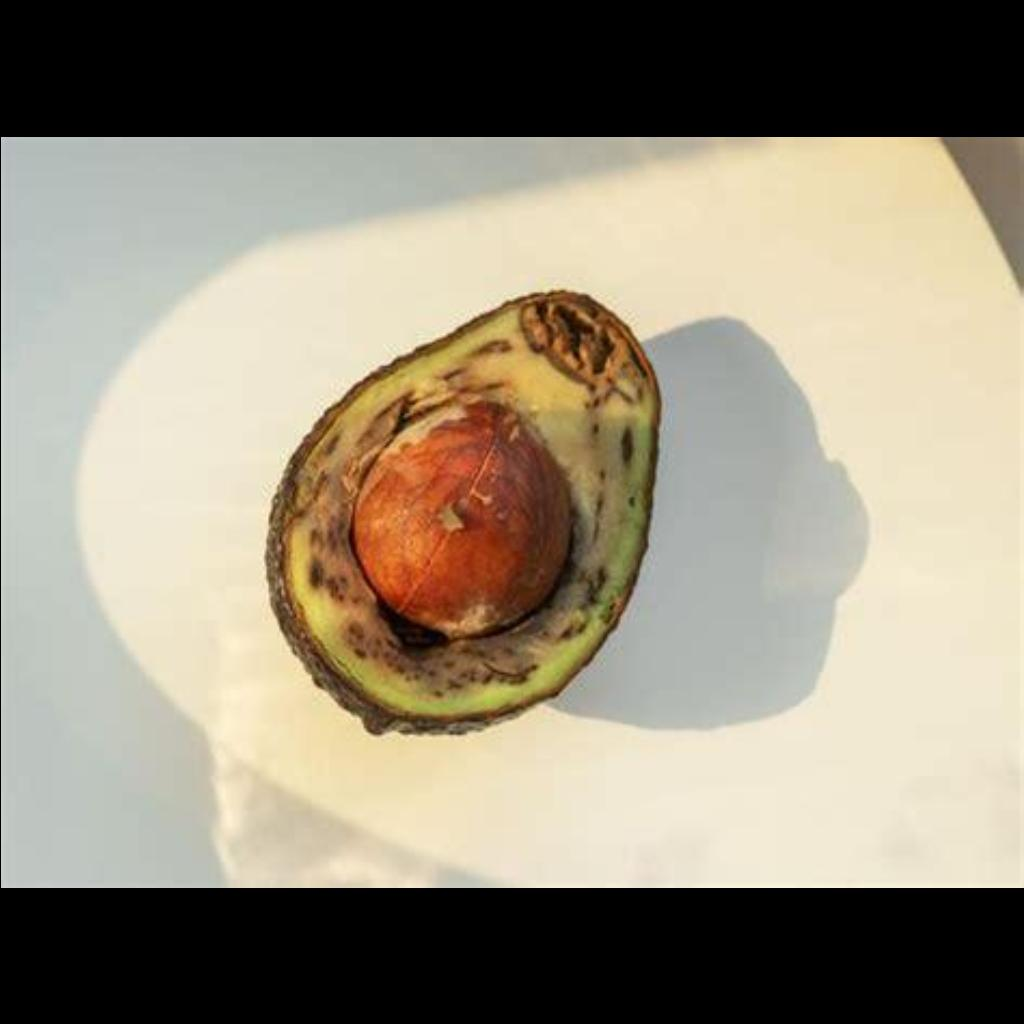Anthracnose: (252, 281, 668, 735)
